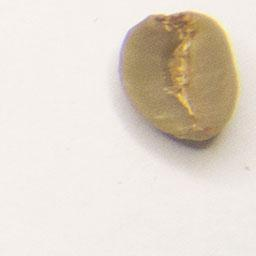premium: (116, 9, 243, 148)
